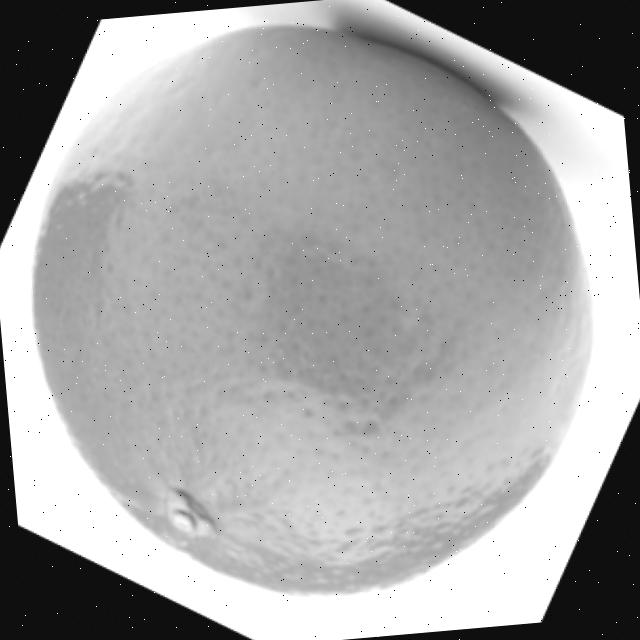orange: (7, 1, 620, 624)
